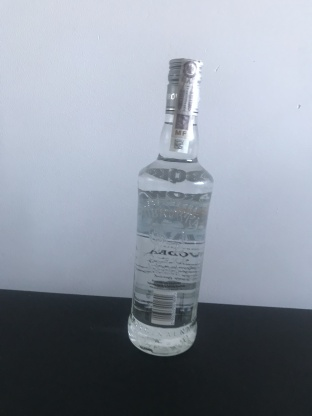nakretka: (162, 54, 205, 120)
